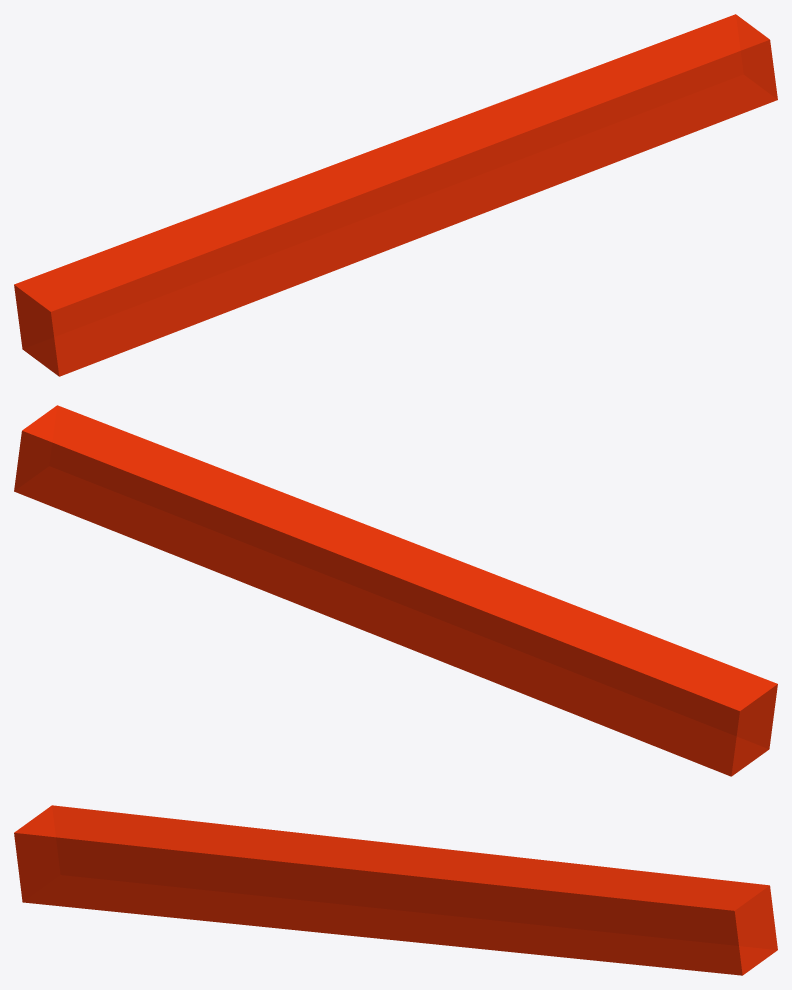
The model's file is Event_421127236_EErechit_28.fbx.
The picture shows the model from 3 angles, top to bottom: view 1: azimuth 30°, elevation 25°; view 2: azimuth 150°, elevation 25°; view 3: azimuth 330°, elevation 25°; orthographic projection.
Visible parts, largest first — view 1: Model; view 2: Model; view 3: Model.
Part boxes in pixels (x1,y1,x2,y2): Model: (14,14,777,376); Model: (14,405,777,776); Model: (14,805,777,975).
Size of the model in its own units: 0.8766 by 0.1923 by 0.0835.
